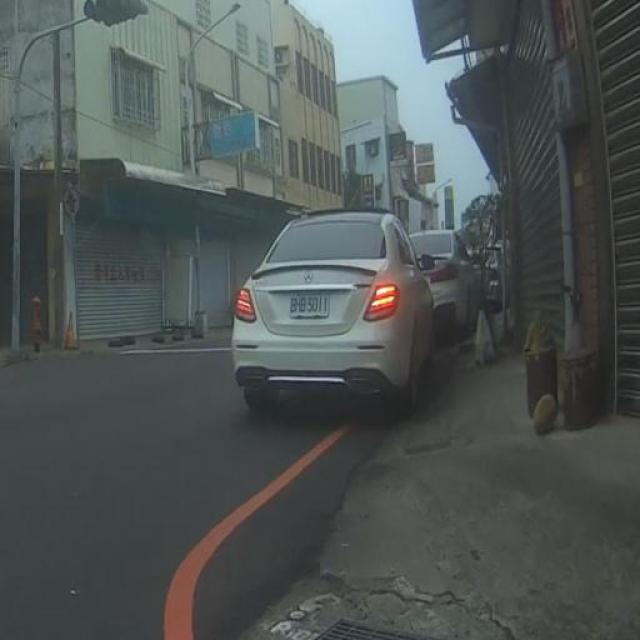illegalparking: (232, 209, 480, 411)
